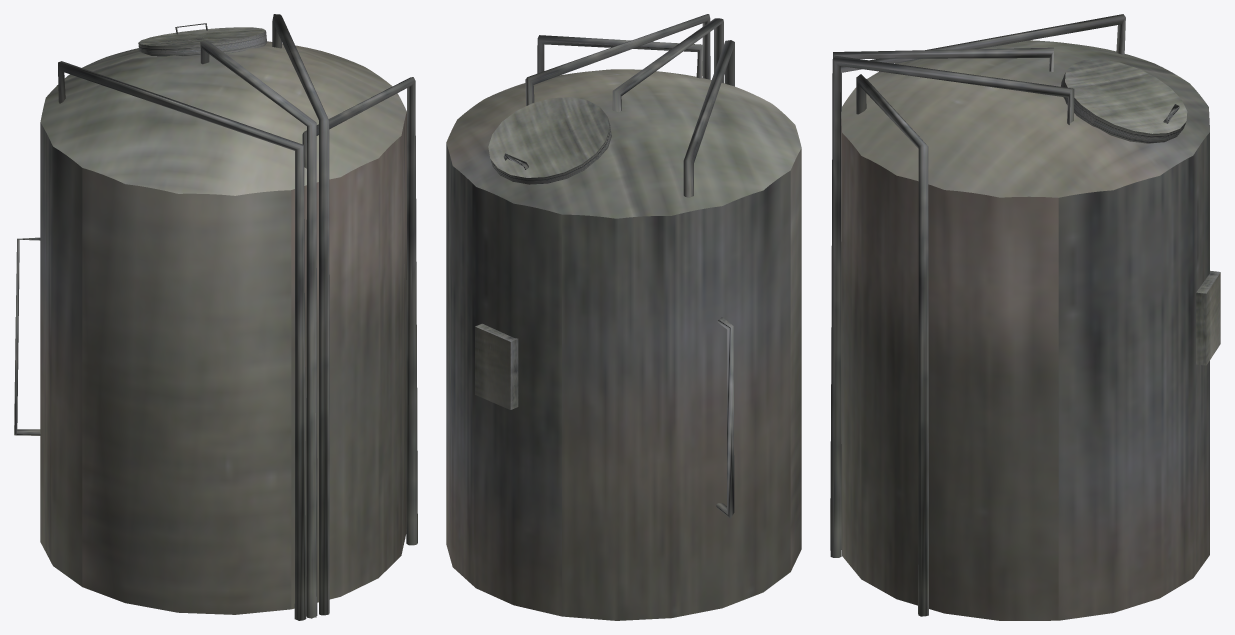
The model's file is Cuve.fbx.
3 renders of one model, left to right at view 1: azimuth 30°, elevation 25°; view 2: azimuth 150°, elevation 25°; view 3: azimuth 270°, elevation 25°, orthographic. The views are drawn at different scales.
Visible parts, largest first — view 1: pCylinder1, pCylinder8, pCylinder4, pCylinder5, pCylinder6, pCylinder2, pCylinder7; view 2: pCylinder1, pCylinder2, pCube1, pCylinder5, pCylinder8, pCylinder4, pCylinder6, pCylinder7; view 3: pCylinder1, pCylinder5, pCylinder2, pCylinder6, pCylinder8, pCylinder4, pCube1.
Part boxes in pixels (x1,y1,x2,y2): pCylinder1: (40,41,406,614); pCylinder8: (58,61,306,620); pCylinder4: (200,40,317,618); pCylinder5: (272,14,329,615); pCylinder6: (302,77,417,545); pCylinder2: (138,27,267,56); pCylinder7: (14,237,40,435); pCylinder1: (446,69,801,620); pCylinder2: (488,97,611,184); pCube1: (475,323,518,409); pCylinder5: (525,14,710,105); pCylinder8: (683,40,734,197); pCylinder4: (612,18,723,112); pCylinder6: (537,35,703,78); pCylinder7: (716,317,734,518); pCylinder1: (841,40,1209,620); pCylinder5: (830,55,1074,557); pCylinder2: (1061,59,1187,143); pCylinder6: (856,74,928,616); pCylinder8: (840,14,1125,241); pCylinder4: (830,47,1053,550); pCube1: (1196,270,1220,365).
Bounding box in the file's own units: 180 × 267 × 189.
Materials: 1 (1 with a texture image).
